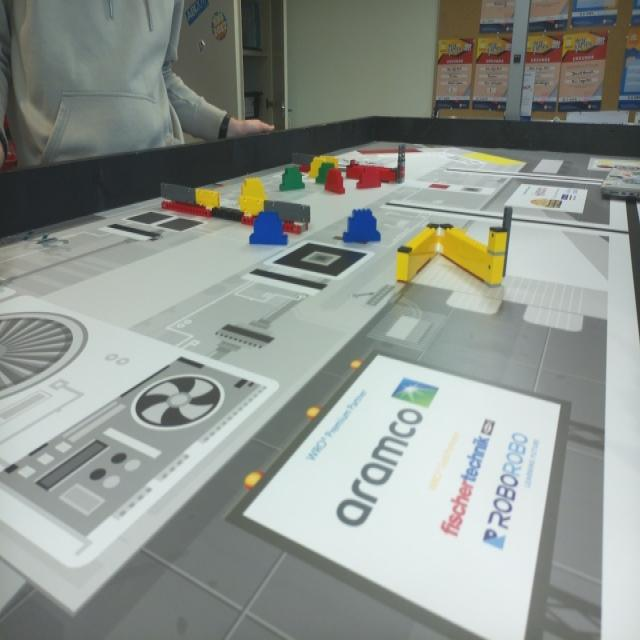blau: (347, 210, 379, 241), (254, 212, 283, 245)
gruen: (277, 166, 306, 192), (318, 163, 334, 180)
rot: (326, 172, 346, 194), (361, 166, 379, 189)
yellow: (241, 179, 266, 197), (309, 161, 321, 176)
